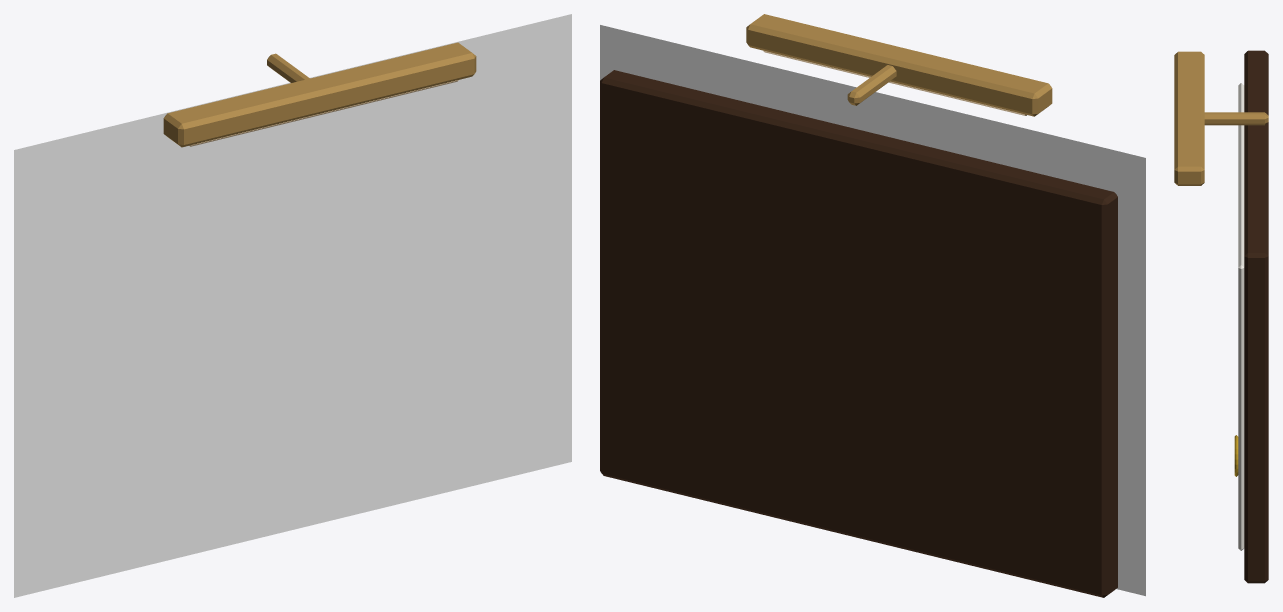
File: generic-education.glb
3 renders of one model, left to right at view 1: azimuth 30°, elevation 25°; view 2: azimuth 150°, elevation 25°; view 3: azimuth 270°, elevation 25°, orthographic. The views are drawn at different scales.
Parts seen in each view (by area): view 1: generic-education.glow, generic-education.brass; view 2: generic-education.frame-dark, generic-education.glow, generic-education.brass; view 3: generic-education.frame-dark, generic-education.brass, generic-education.mat, generic-education.gold.
Part boxes in pixels (box(x1,y1,x2,y2)): generic-education.glow: box(14, 14, 571, 597); generic-education.brass: box(163, 42, 476, 147); generic-education.frame-dark: box(600, 70, 1117, 597); generic-education.glow: box(600, 25, 1145, 596); generic-education.brass: box(746, 14, 1052, 116); generic-education.frame-dark: box(1244, 50, 1268, 583); generic-education.brass: box(1174, 51, 1268, 185); generic-education.mat: box(1238, 83, 1244, 550); generic-education.gold: box(1234, 435, 1238, 476).
Size of the model in its own units: 0.86 by 0.6875 by 0.155.
